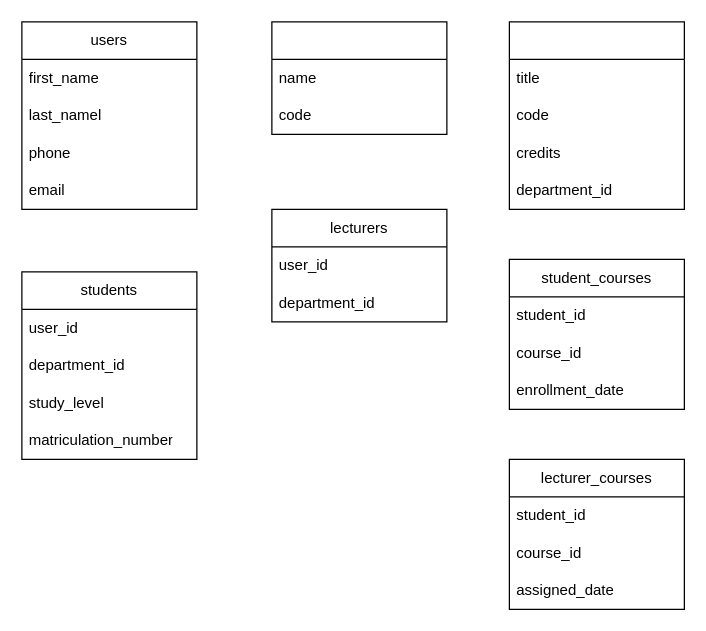
The diagram is 706 pixels wide and 631 high, and some of its shapes have lost their labels. The box of each missing label's shape, as (x1, y1, x2, y2) in pixels:
courses: (508, 21, 684, 209)
departments: (271, 21, 447, 134)
